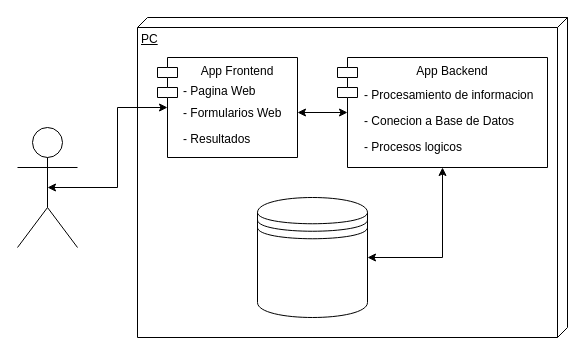
Image size: 585x355. Some labels were removed from this diagram. Each missing label, with the centre of its shape:
"Actor" belongs at [47,187].
"HogarGestorDB (Local)" belongs at [312,257].
